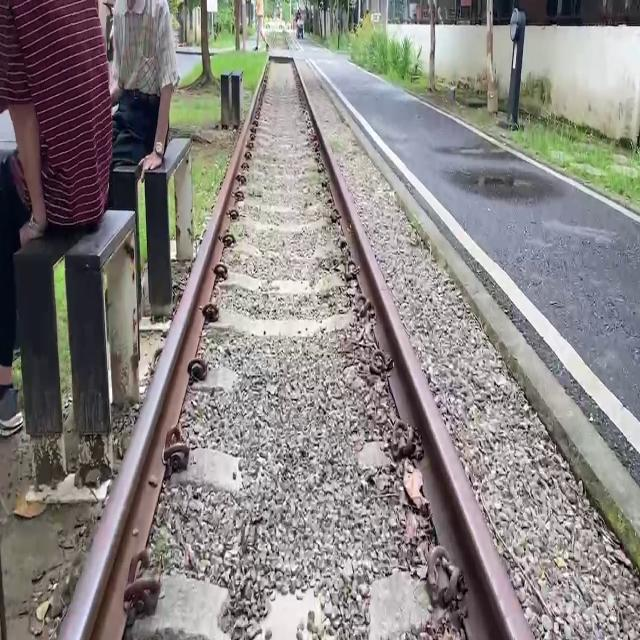rail-track: (150, 58, 435, 640), (266, 31, 289, 49)
